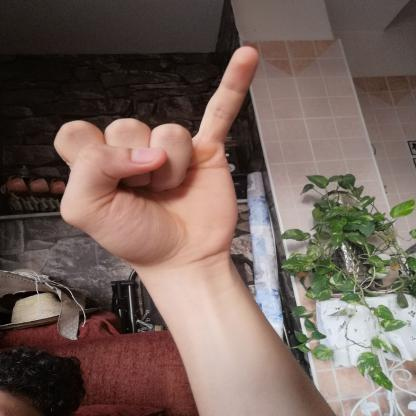MEEM: (26, 34, 275, 280)
